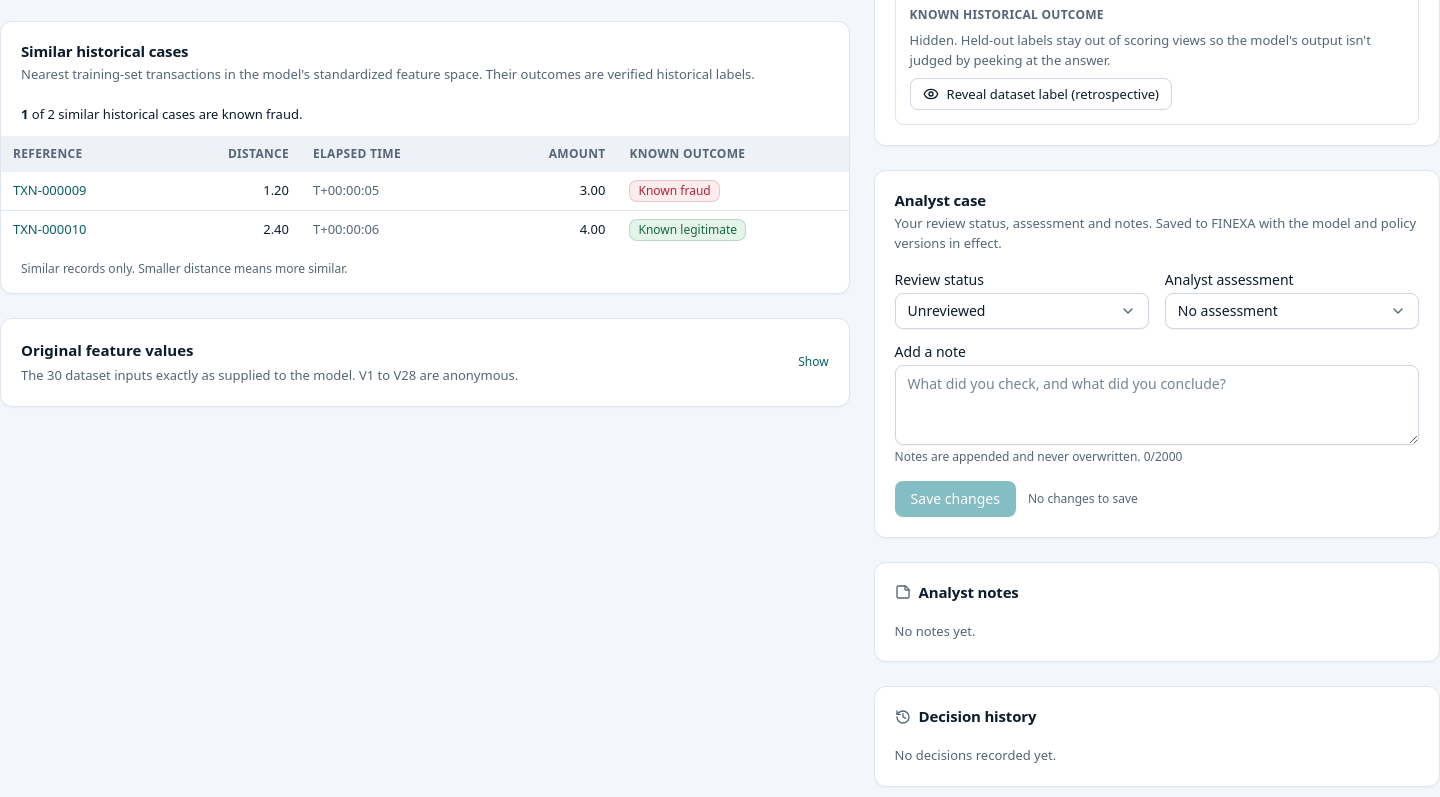
Test: case investigation page › saves a note with a CSRF header, shows success and the decision receipt
(page scrolled)
Expected: the button "Save changes" is disabled, [895, 481, 1016, 517]
Type "Checked similar cases" into the text box labelled "Add a note". click: coordinates (1157, 405)
box: [895, 365, 1419, 445]
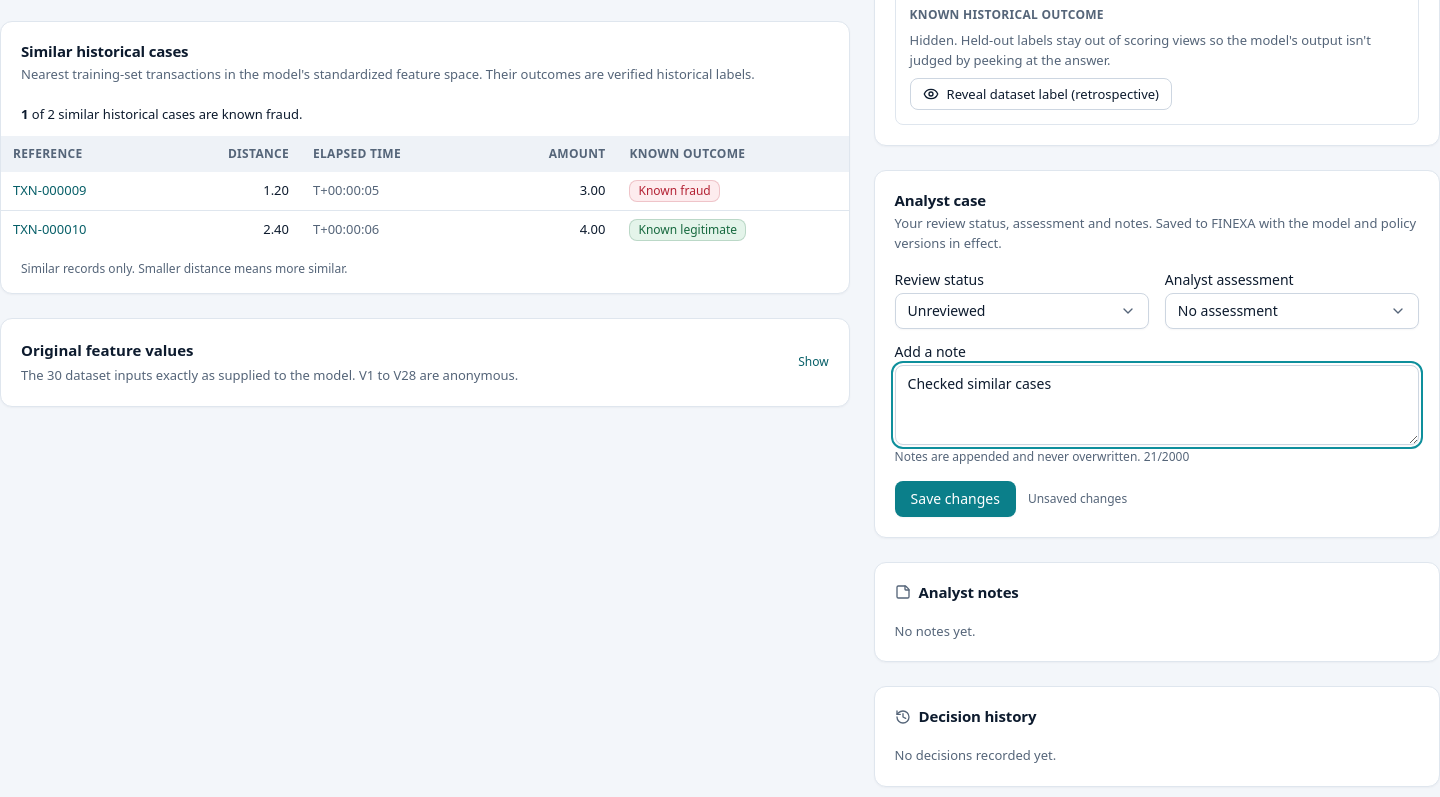
Expected: the button "Save changes" is enabled
Click the button "Save changes". click: coordinates (955, 499)
box: [895, 481, 1016, 517]
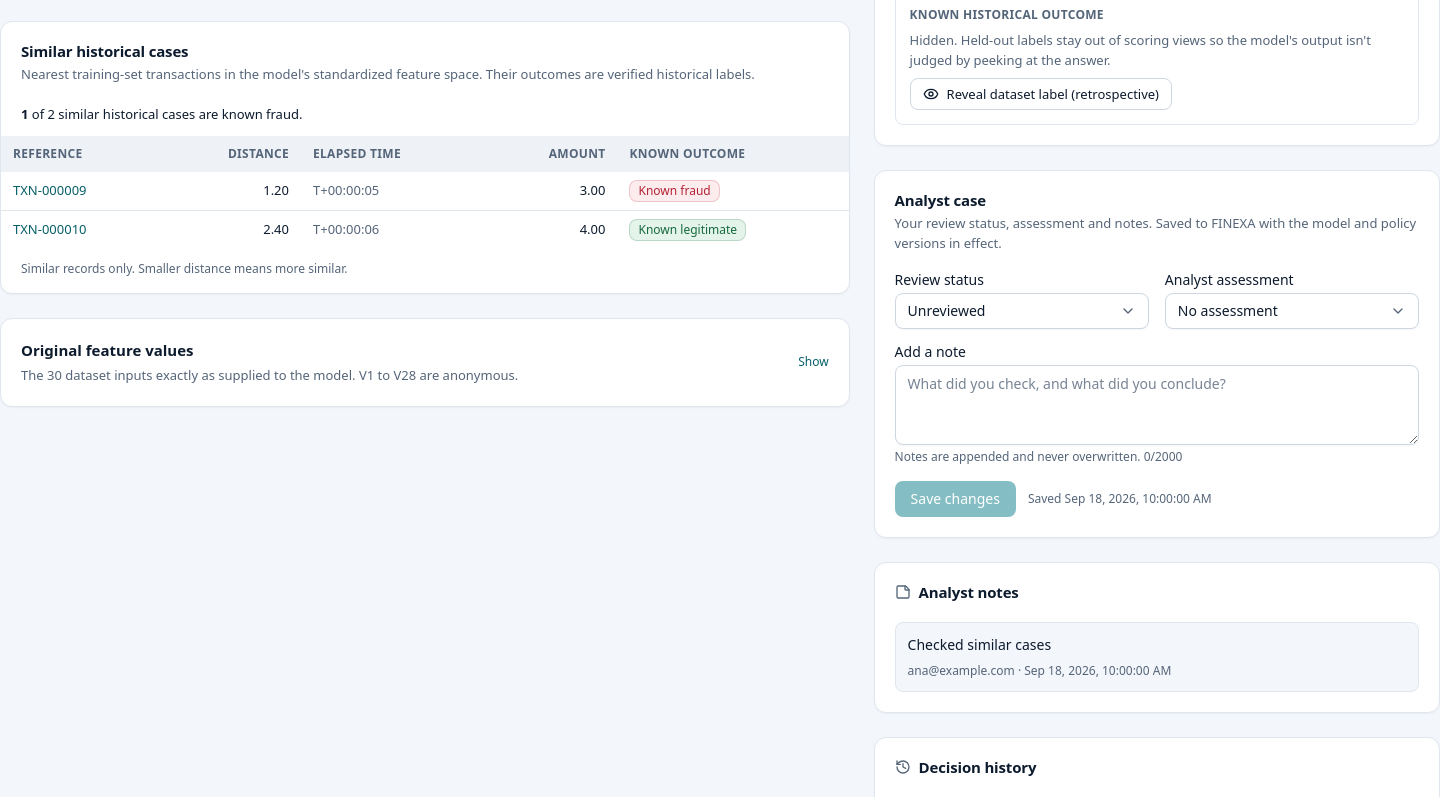
Expected: the text "Checked similar cases" is shown, [908, 635, 1051, 654]
Expected: the text box labelled "Add a note" is empty, [895, 365, 1419, 445]
